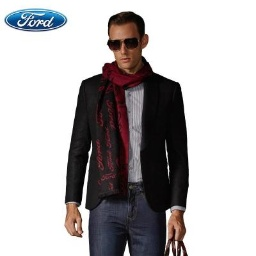face: (106, 9, 149, 71)
